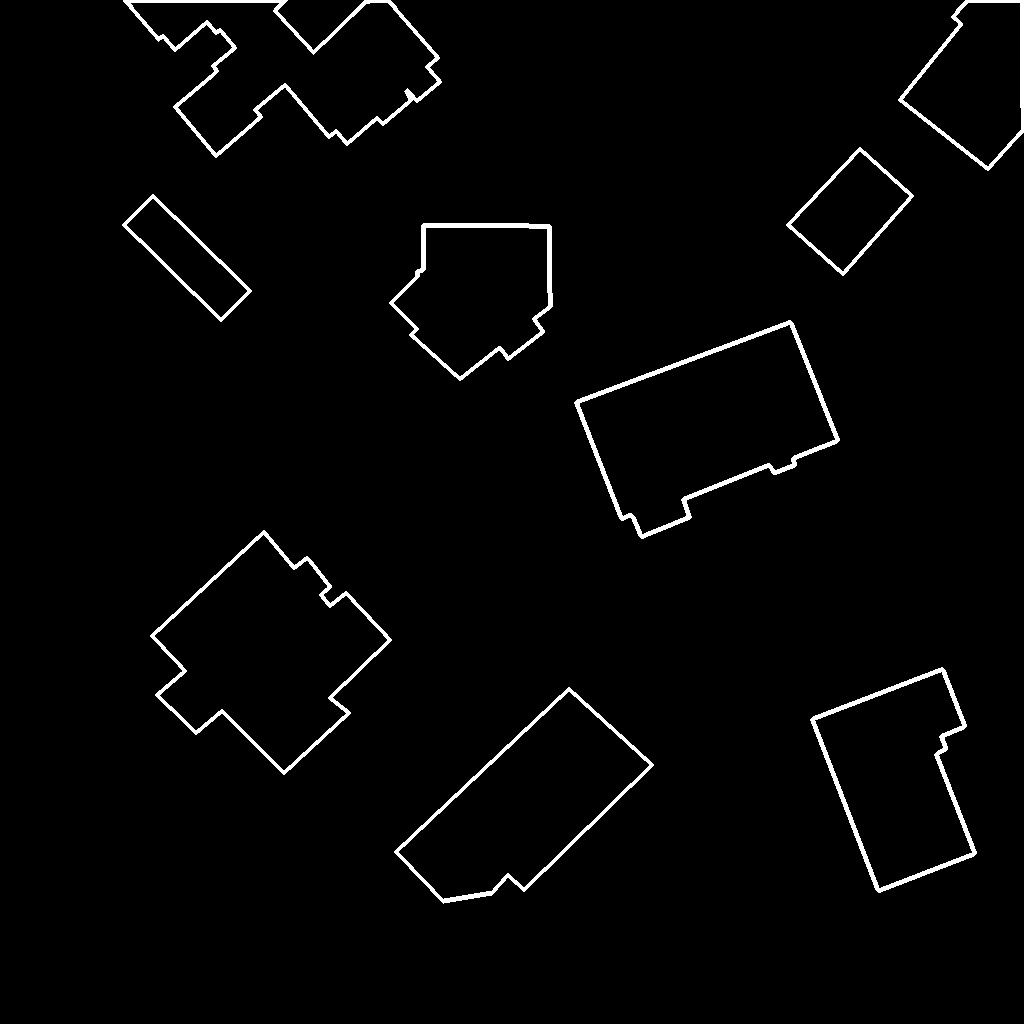building: (152, 532, 391, 774), (576, 322, 839, 538), (396, 689, 653, 902), (812, 669, 976, 892), (124, 0, 314, 157), (391, 225, 551, 380), (285, 0, 441, 145), (900, 0, 1024, 170), (124, 196, 251, 321), (788, 149, 913, 275)
